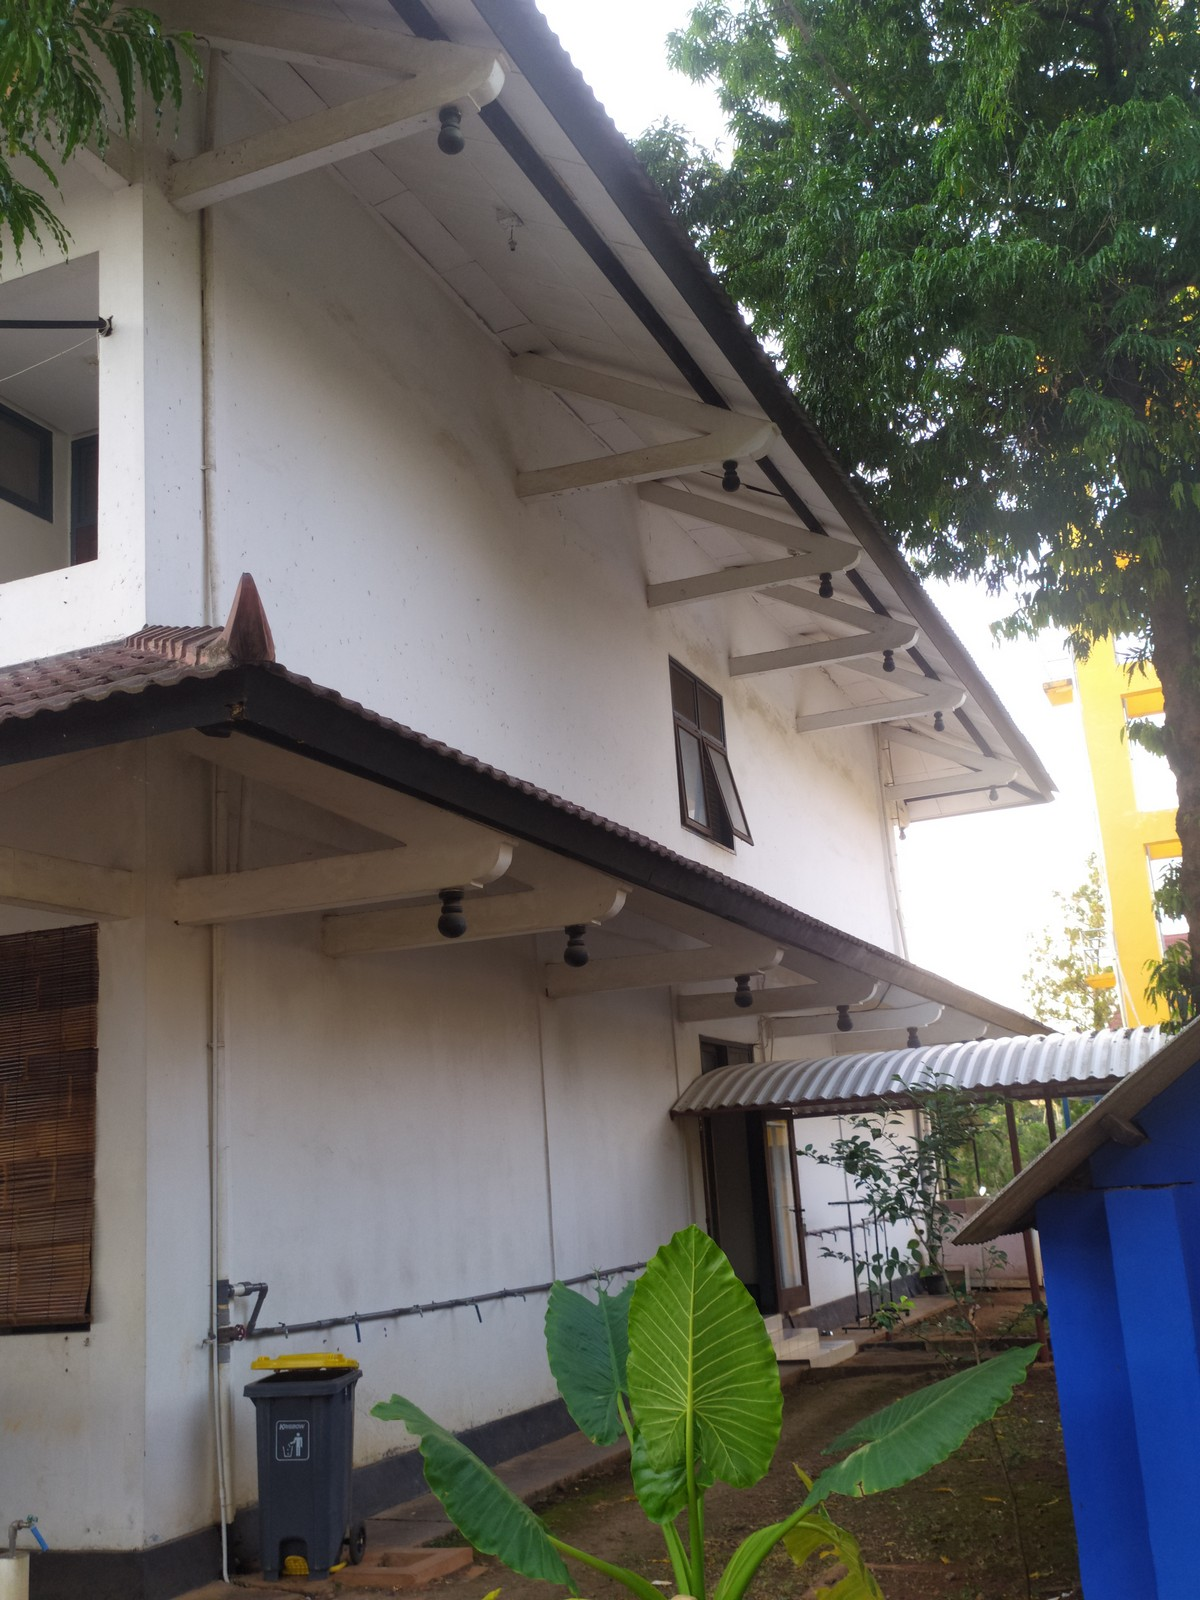concrete beam: (163, 101, 417, 222), (158, 838, 418, 944), (499, 433, 720, 508), (532, 947, 715, 1002), (639, 558, 813, 615), (724, 631, 877, 684), (794, 695, 925, 741)
